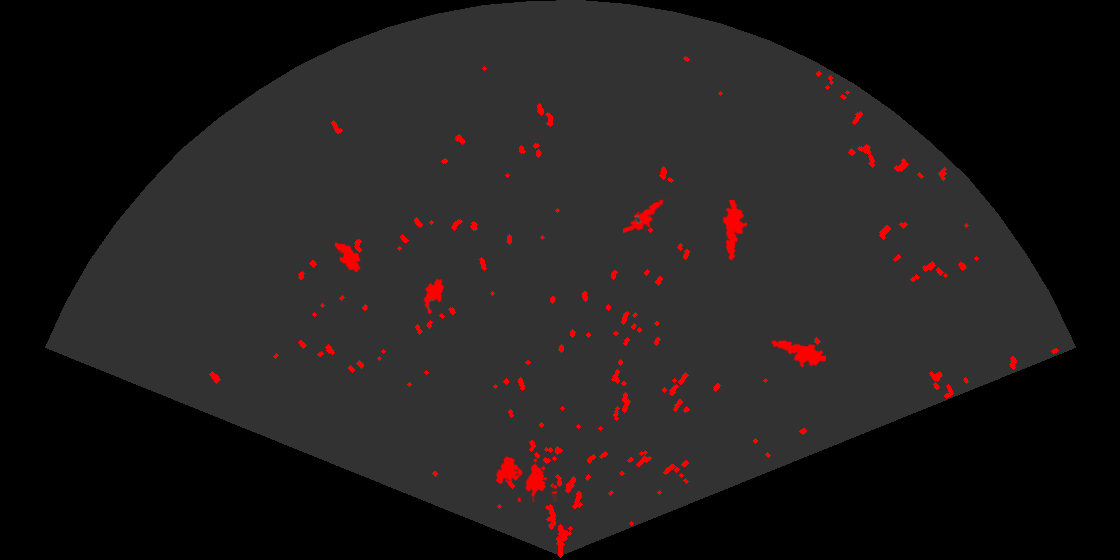AUV: (333, 241, 362, 274), (422, 277, 446, 316)
cage: (494, 455, 557, 502)
frogman: (623, 196, 671, 235), (721, 200, 749, 263), (770, 339, 826, 370)
